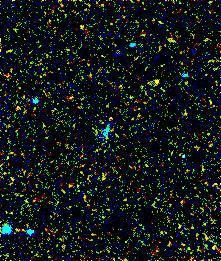star: (143, 66, 173, 96)
